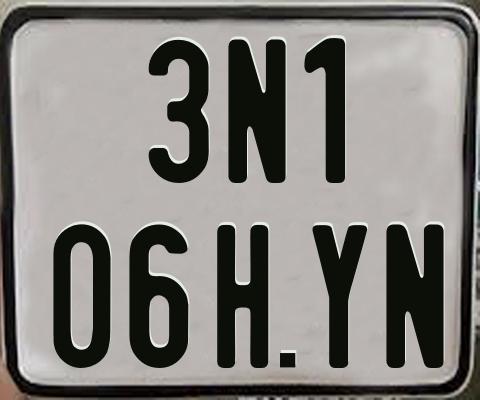0: (53, 221, 117, 366)
1: (302, 38, 343, 187)
3: (147, 38, 213, 186)
6: (126, 223, 191, 368)
H: (217, 224, 274, 367)
N: (225, 38, 288, 184), (384, 224, 447, 370)
Y: (310, 223, 366, 367)
